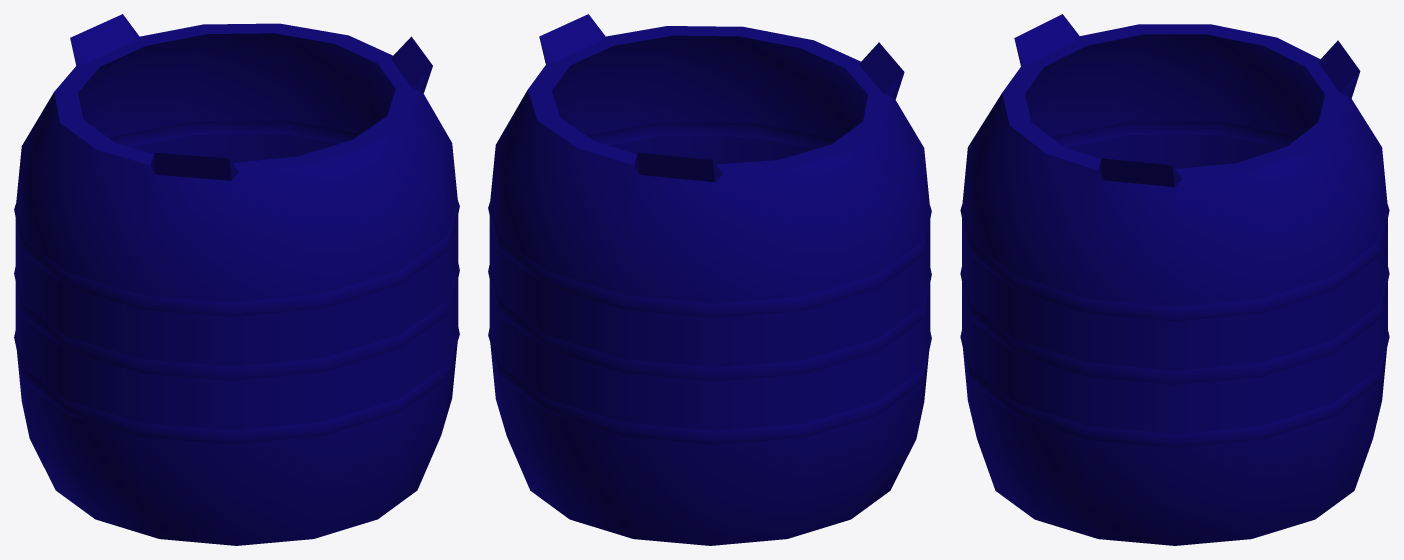
File: container_A.FBX
The picture shows the model from 3 angles, left to right: view 1: azimuth 30°, elevation 25°; view 2: azimuth 150°, elevation 25°; view 3: azimuth 270°, elevation 25°; orthographic projection.
Visible parts, largest first — view 1: container_A001; view 2: container_A001; view 3: container_A001.
Boxes of the visible parts, x1=… form: container_A001: x1=14, y1=14, x2=459, y2=545; container_A001: x1=488, y1=14, x2=931, y2=545; container_A001: x1=960, y1=14, x2=1389, y2=545.
Size of the model in its own units: 57.92 by 55.4 by 55.94.
